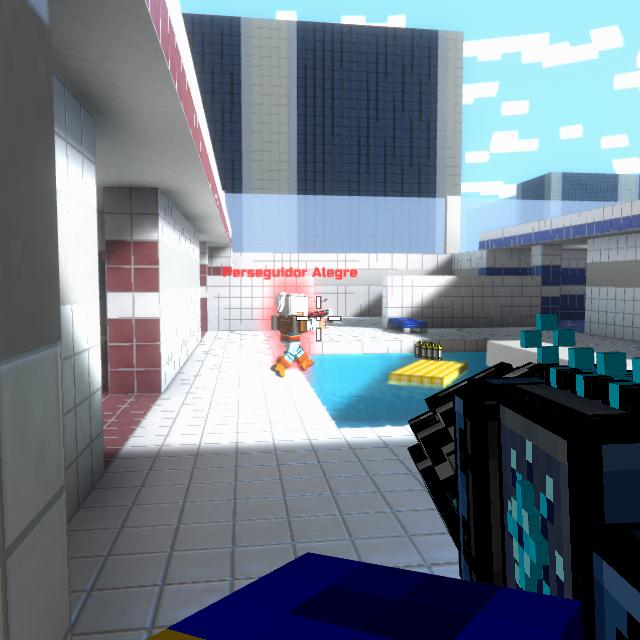Enemy: (271, 293, 315, 378)
